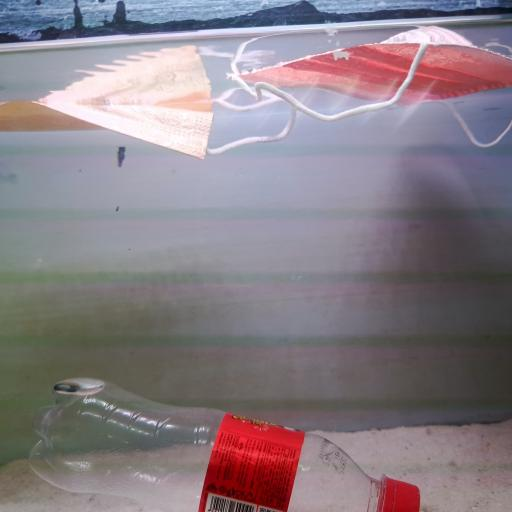bottle_cap: (379, 470, 425, 512)
mask: (249, 30, 510, 142), (0, 87, 307, 163)
plastic_bottle: (29, 370, 431, 512)
